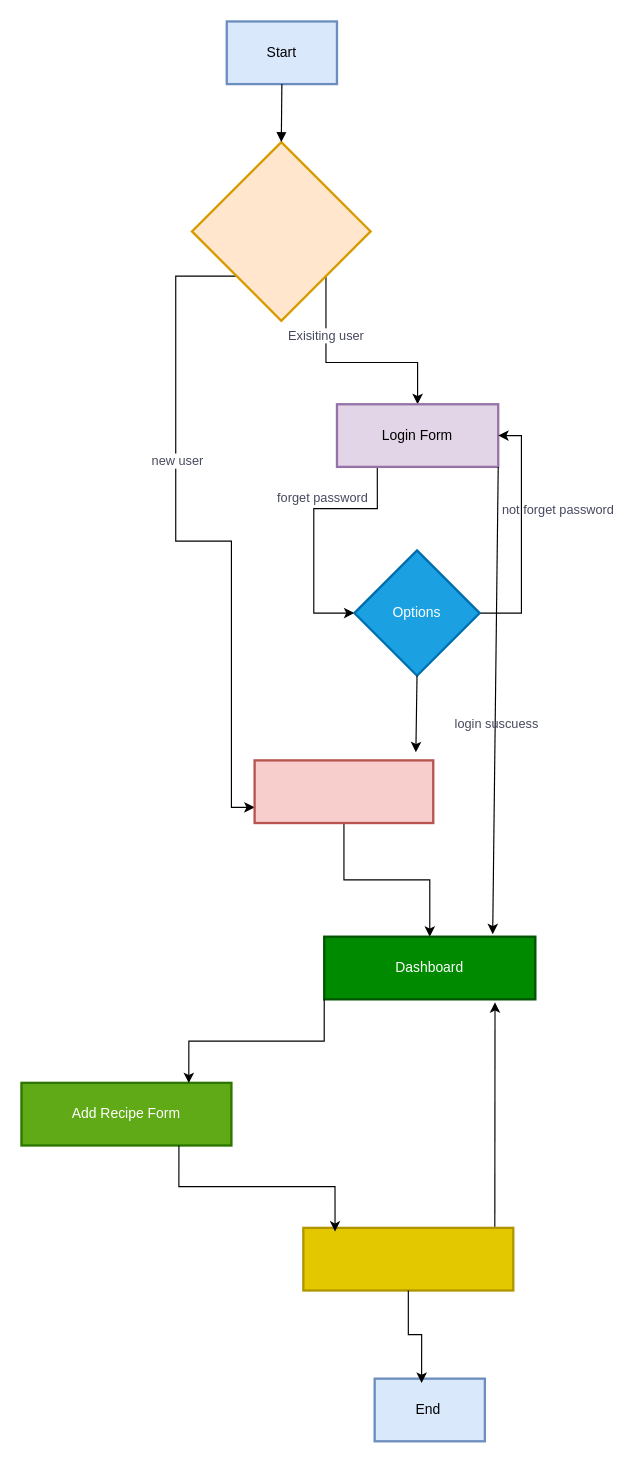
This 637x1462 diagram has some shape labels left out. The centre of each missing label's shape, as x and y in pixels:
Recipe Details Display (Title/Date/Image): point 408,1258
Sign Up Form: point 343,791
Sign Up/Login: point 280,230
